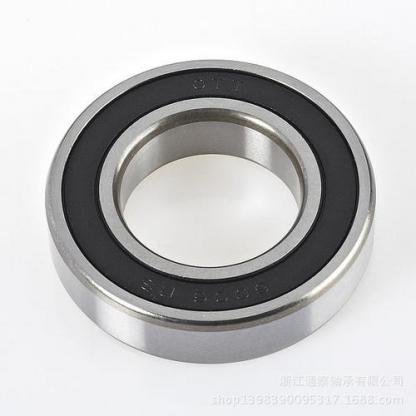FOD: (41, 53, 379, 364)
